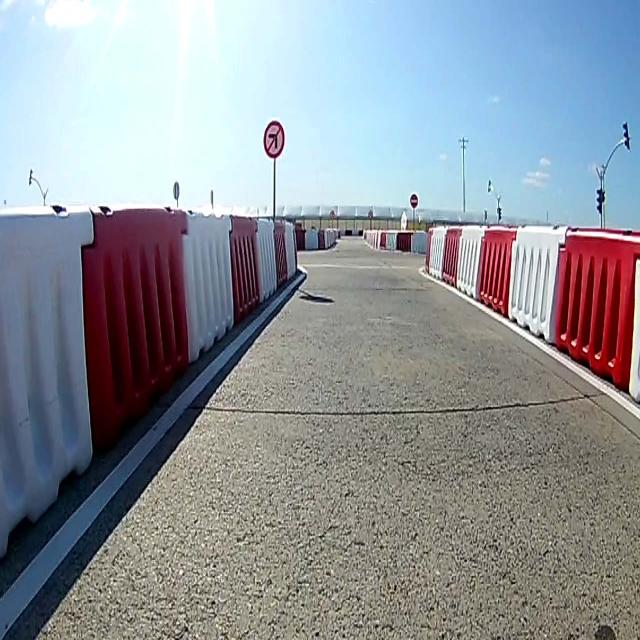girisyok: (409, 193, 418, 209)
soladonulmez: (263, 120, 285, 158)
